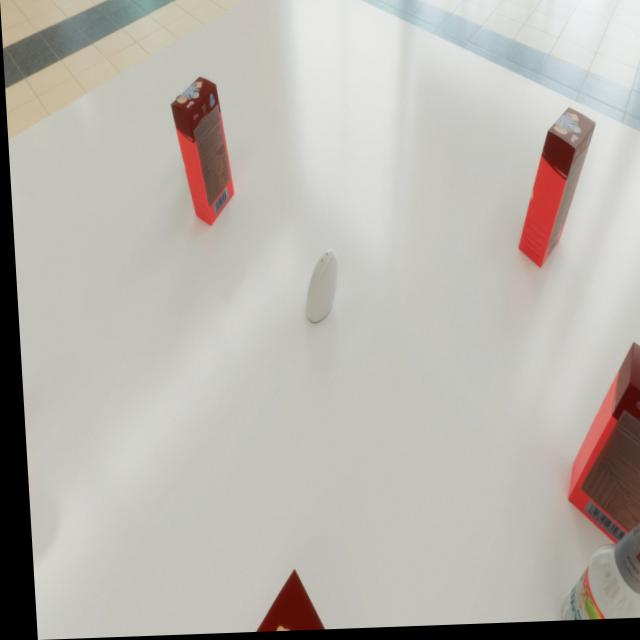Bottle: (547, 503, 640, 625)
HelloPanda: (555, 345, 640, 574), (508, 111, 601, 273), (168, 77, 233, 228)
Rita_zero_sugar: (172, 95, 201, 174)
Salt: (298, 252, 337, 325)
